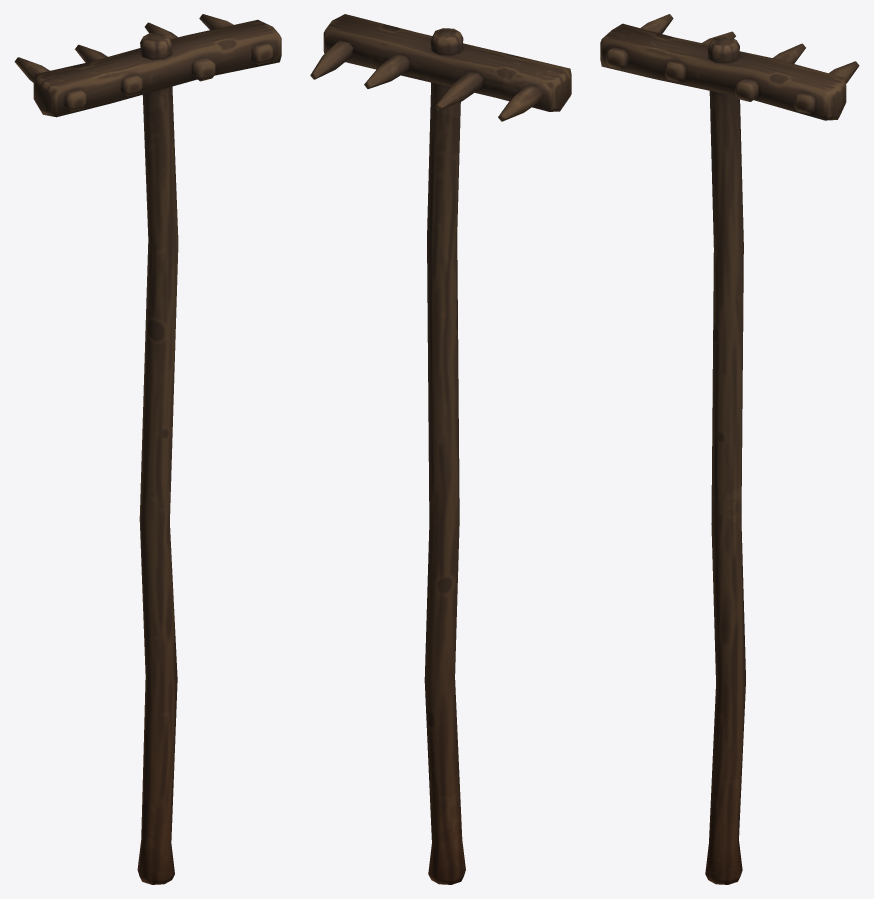
File: mythrilRake.fbx
3 views of the same model, side by side, from view 1: azimuth 30°, elevation 25°; view 2: azimuth 150°, elevation 25°; view 3: azimuth 330°, elevation 25° (orthographic).
Parts seen in each view (by area): view 1: Rake_01; view 2: Rake_01; view 3: Rake_01.
Part boxes in pixels (<box>): Rake_01: <box>14,14,281,884</box>; Rake_01: <box>310,14,571,884</box>; Rake_01: <box>600,14,859,884</box>.
Size of the model in its own units: 44.92 by 154 by 19.93.
1 material, 1 textured.
